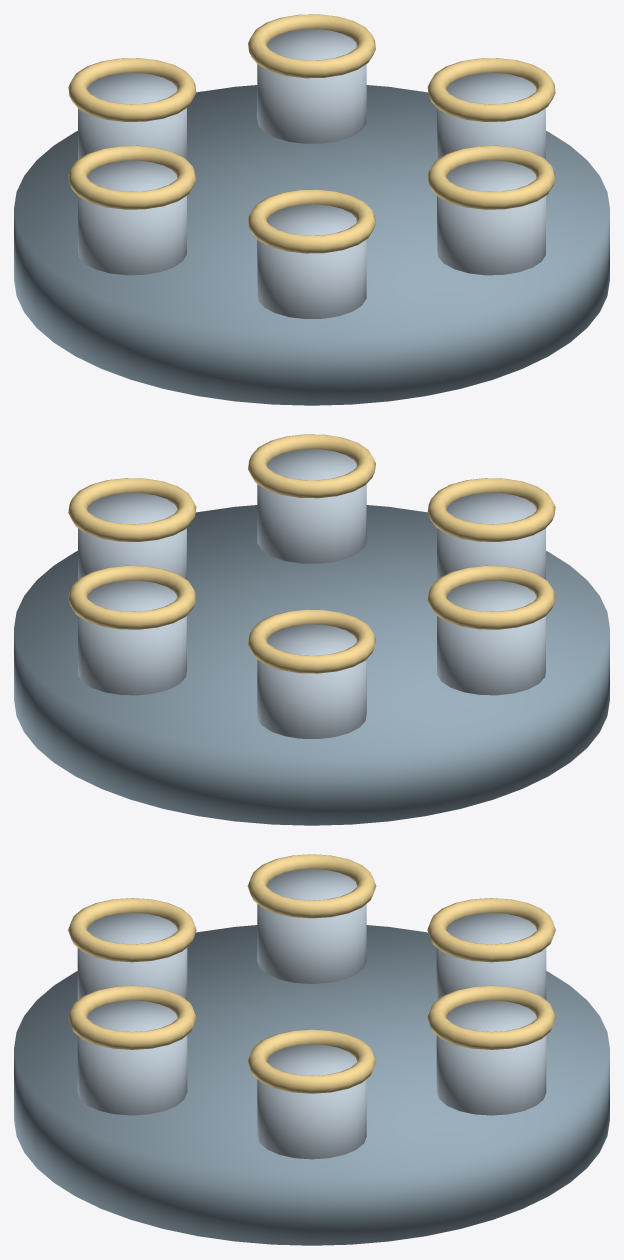
The model's file is 71_L92_SampleCarouselIndexer.fbx.
3 views of the same model, one above another, from view 1: azimuth 30°, elevation 25°; view 2: azimuth 150°, elevation 25°; view 3: azimuth 270°, elevation 25° (orthographic).
Parts seen in each view (by area): view 1: L92_SampleCarouselIndexer_Part_0000, L92_SampleCarouselIndexer_Part_0001, L92_SampleCarouselIndexer_Part_0002; view 2: L92_SampleCarouselIndexer_Part_0000, L92_SampleCarouselIndexer_Part_0001, L92_SampleCarouselIndexer_Part_0002; view 3: L92_SampleCarouselIndexer_Part_0000, L92_SampleCarouselIndexer_Part_0001, L92_SampleCarouselIndexer_Part_0002.
Part boxes in pixels (x1=…): L92_SampleCarouselIndexer_Part_0000: x1=14, y1=85, x2=609, y2=405; L92_SampleCarouselIndexer_Part_0001: x1=78, y1=29, x2=545, y2=318; L92_SampleCarouselIndexer_Part_0002: x1=68, y1=14, x2=555, y2=253; L92_SampleCarouselIndexer_Part_0000: x1=14, y1=505, x2=609, y2=825; L92_SampleCarouselIndexer_Part_0001: x1=78, y1=449, x2=545, y2=738; L92_SampleCarouselIndexer_Part_0002: x1=68, y1=434, x2=555, y2=673; L92_SampleCarouselIndexer_Part_0000: x1=14, y1=925, x2=609, y2=1245; L92_SampleCarouselIndexer_Part_0001: x1=77, y1=869, x2=546, y2=1159; L92_SampleCarouselIndexer_Part_0002: x1=68, y1=854, x2=555, y2=1093.
Size of the model in its own units: 2.5 by 0.995 by 2.5.
